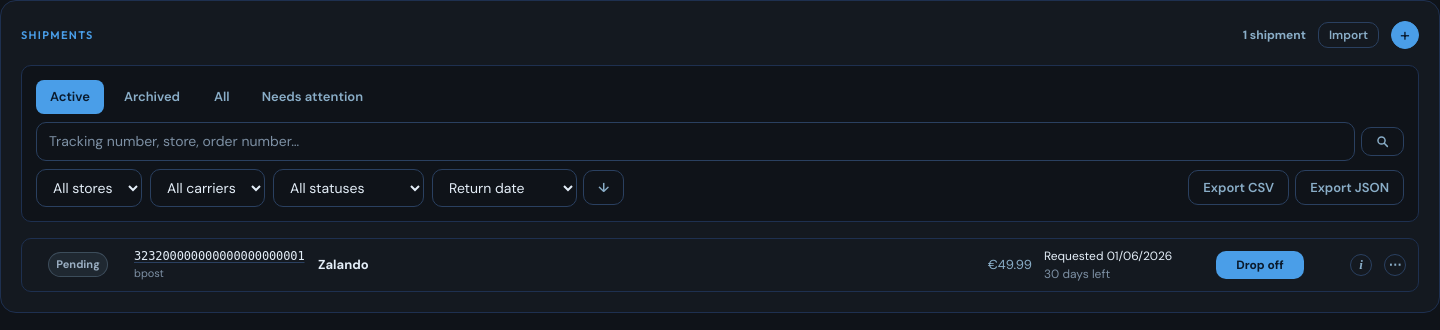
Test: while a new list is on its way › dims the rows and spins instead of leaving a stale list looking live
Expected: the text "Zalando" is shown, [318,256,369,273]
Select "bpost" in the 2nd dropdown named "Carrier". click: {"x": 208, "y": 188}
box: [150,168,265,206]
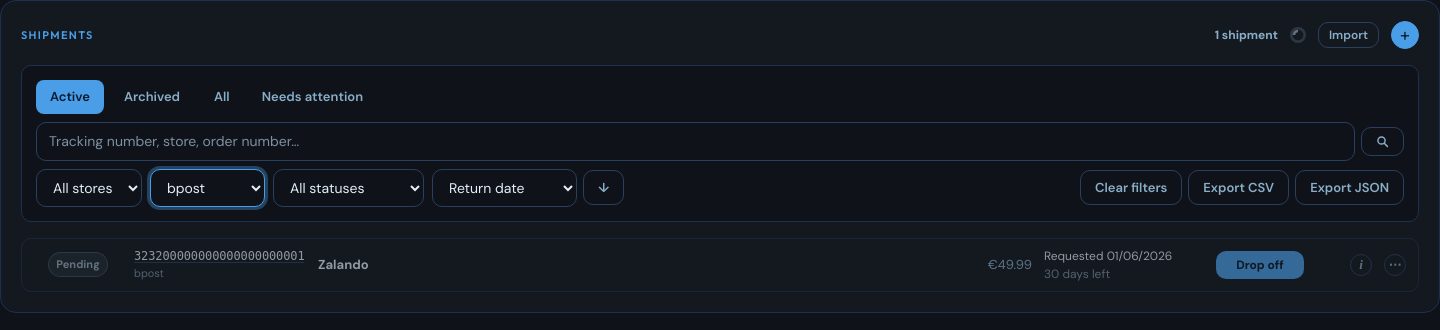
Expected: the text "Zalando" is shown, [318,256,369,273]
Expected: the element with class "shipment-list-busy" is shown, [21,238,1419,292]
Expected: the message named "Updating the list" is shown, [1290,27,1306,43]
